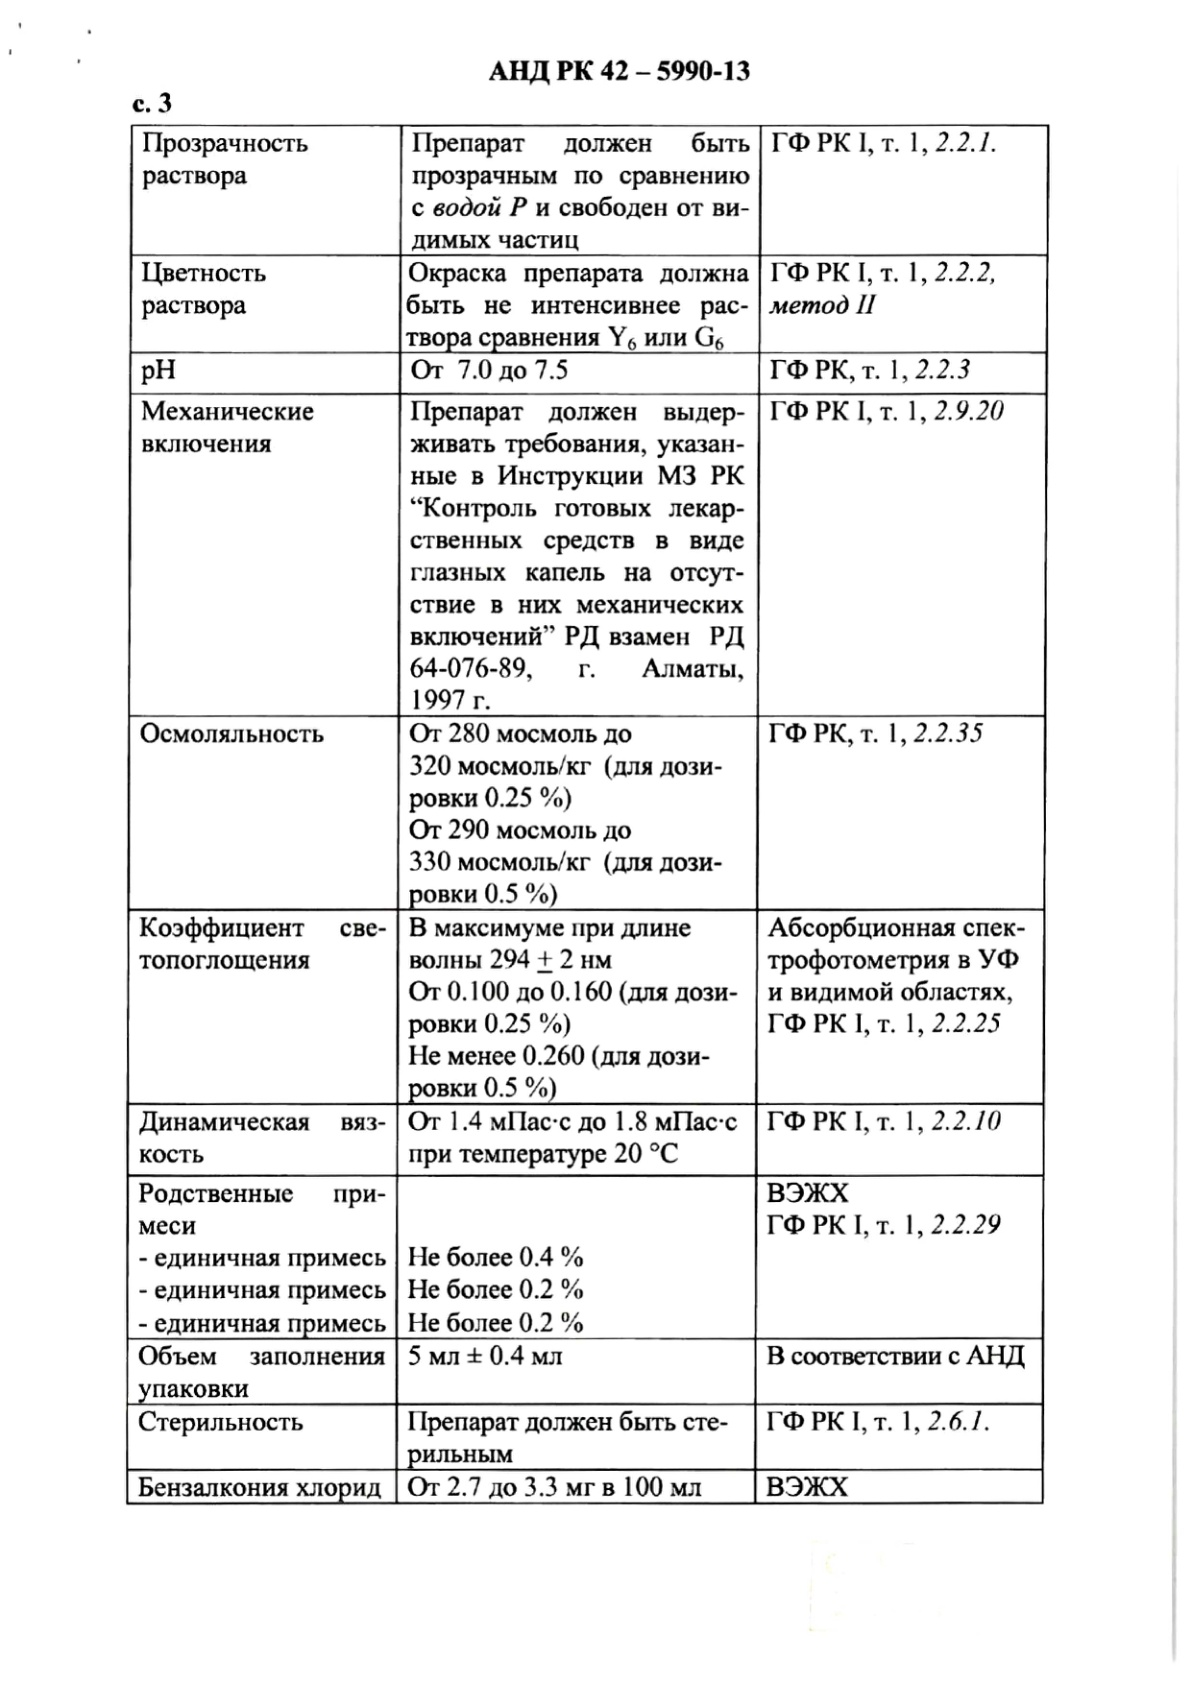full_lined: (123, 115, 1059, 1513)
